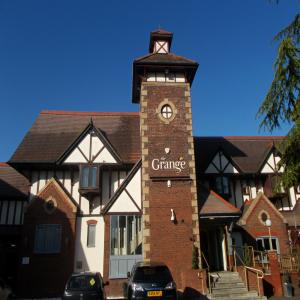Vehicle-registration-plate: (147, 291, 163, 298)
